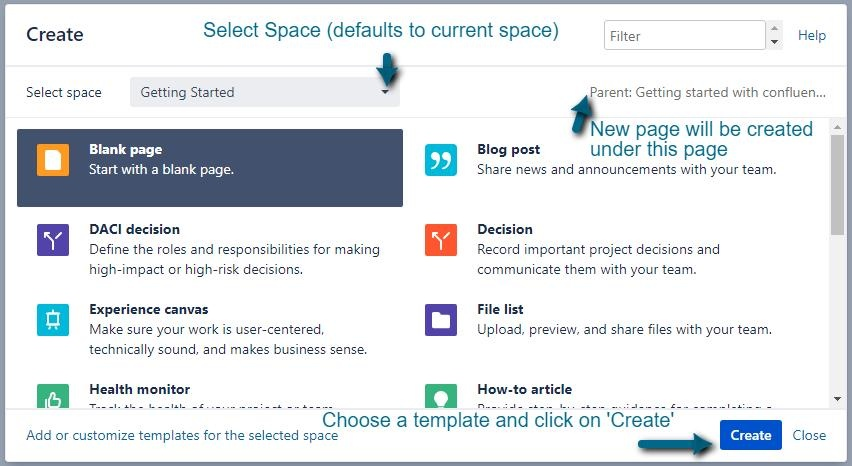button_create: (721, 420, 787, 452)
search_box: (606, 18, 768, 51)
